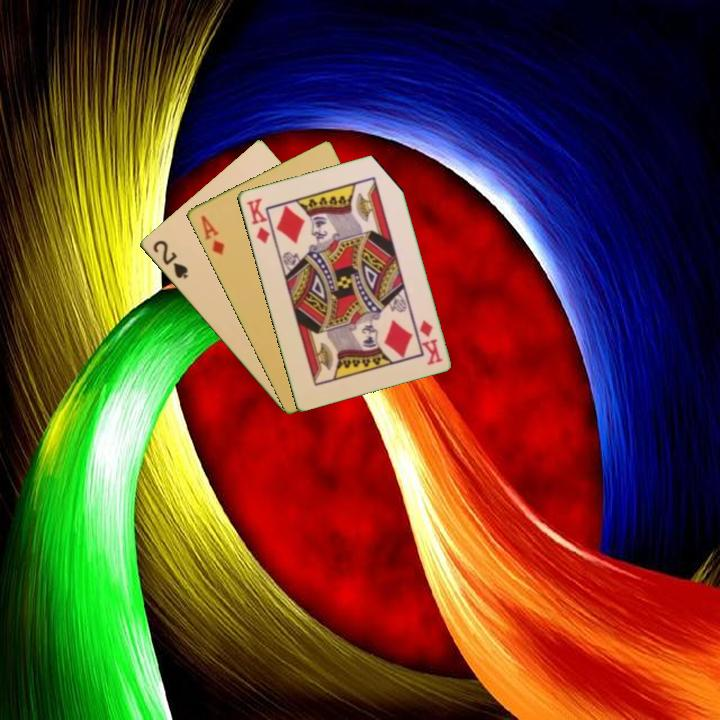2s: (149, 237, 191, 282)
Ad: (197, 211, 227, 258)
Kd: (242, 194, 272, 246), (415, 316, 445, 368)
